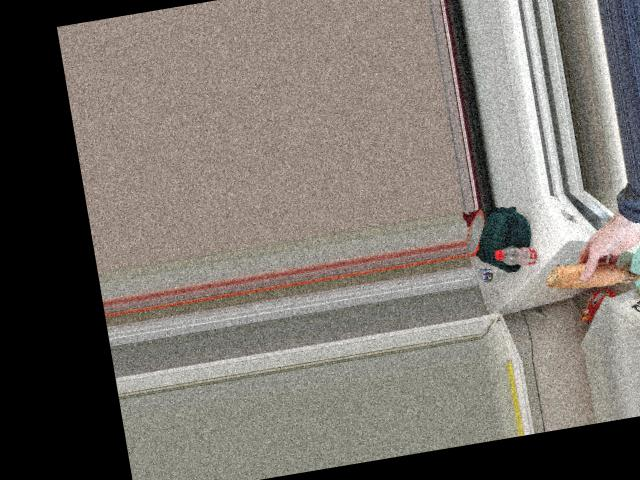sweet_potato: (540, 256, 640, 293)
